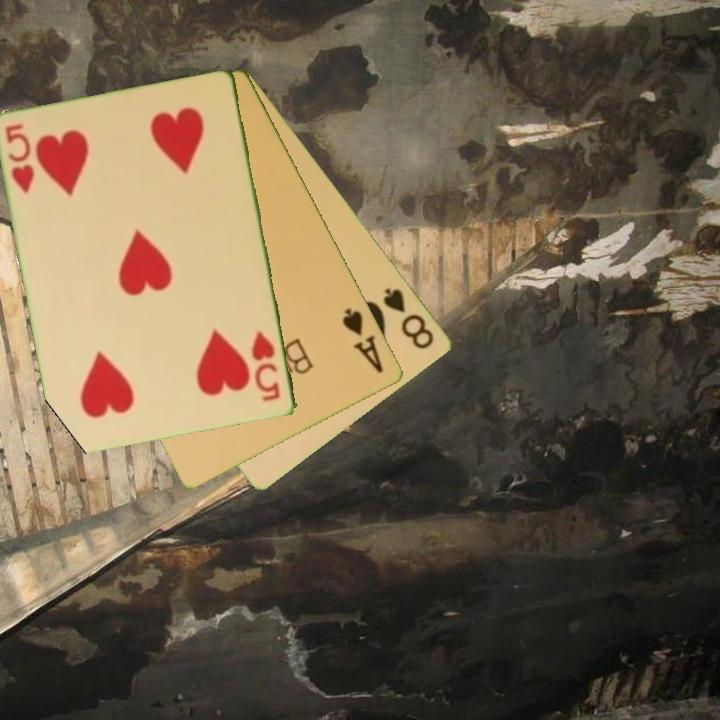5h: (248, 328, 284, 405), (2, 121, 38, 197)
8s: (380, 284, 438, 353)
As: (339, 305, 387, 377)
